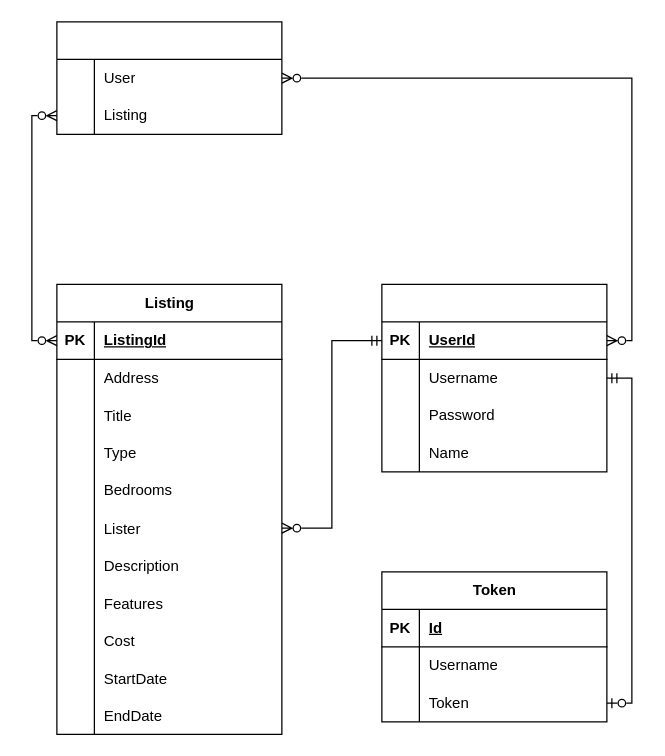
Image size: 665x756. Some labels were removed from this diagram. Each missing label, with the box of its shape:
Likes: (56, 21, 282, 134)
Users: (381, 283, 607, 472)
